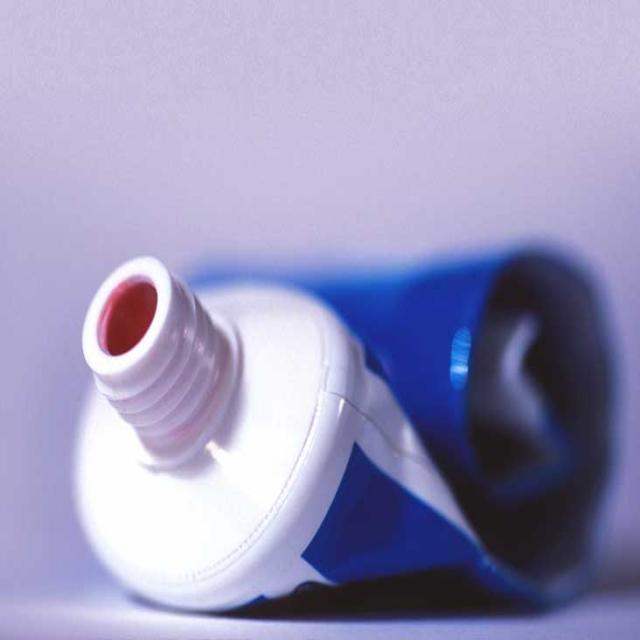toothpaste: (51, 172, 634, 635)
